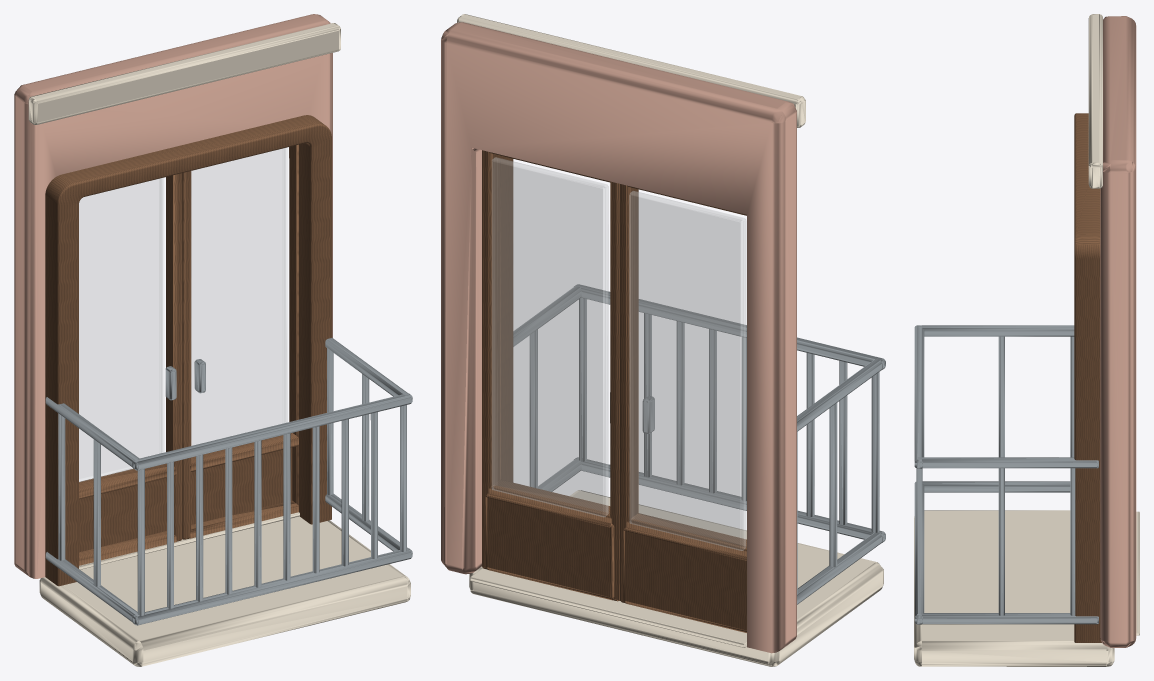
Rendered from Balcony.glb.
The picture shows the model from 3 angles, left to right: view 1: azimuth 30°, elevation 25°; view 2: azimuth 150°, elevation 25°; view 3: azimuth 270°, elevation 25°; orthographic projection. The views are drawn at different scales.
Parts seen in each view (by area): view 1: PBK_substrate.001, PBK_Continuous_Frame_Brick_Balcony.001, PBK_balcony_door_glass.002, PBK_balcony_slab.001, PBK_balcony_door_glass.001, PBK_floor_band.001, PBK_door_stile.009, PBK_door_kick_panel.002, PBK_door_kick_panel.001, PBK_door_stile.010, PBK_front_rail.004, PBK_front_rail.001 (+24 smaller); view 2: PBK_substrate.001, PBK_balcony_door_glass.001, PBK_balcony_door_glass.002, PBK_balcony_slab.001, PBK_door_kick_panel.002, PBK_door_kick_panel.001, PBK_door_stile.011, PBK_door_stile.009, PBK_door_threshold.002, PBK_Continuous_Frame_Brick_Balcony.001, PBK_door_stile.010, PBK_floor_band.001 (+17 smaller); view 3: PBK_substrate.001, PBK_balcony_slab.001, PBK_Continuous_Frame_Brick_Balcony.001, PBK_floor_band.001, PBK_side_rail.007, PBK_side_rail.005, PBK_side_rail.006, PBK_side_rail.004, PBK_front_rail.004, PBK_side_baluster.007, PBK_baluster.019, PBK_side_baluster.006 (+4 smaller).
Part boxes in pixels (x1,y1,x2,y2): PBK_substrate.001: [14, 14, 332, 578]; PBK_Continuous_Frame_Brick_Balcony.001: [45, 115, 331, 586]; PBK_balcony_door_glass.002: [191, 147, 287, 445]; PBK_balcony_slab.001: [39, 516, 410, 666]; PBK_balcony_door_glass.001: [79, 178, 163, 482]; PBK_floor_band.001: [28, 23, 340, 124]; PBK_door_stile.009: [166, 173, 182, 541]; PBK_door_kick_panel.002: [191, 447, 292, 524]; PBK_door_kick_panel.001: [79, 478, 166, 552]; PBK_door_stile.010: [182, 171, 191, 539]; PBK_front_rail.004: [132, 393, 412, 470]; PBK_front_rail.001: [132, 548, 412, 625]; PBK_substrate.001: [441, 22, 796, 653]; PBK_balcony_door_glass.001: [629, 191, 745, 550]; PBK_balcony_door_glass.002: [492, 157, 608, 516]; PBK_balcony_slab.001: [469, 490, 883, 666]; PBK_door_kick_panel.002: [485, 493, 614, 599]; PBK_door_kick_panel.001: [623, 527, 746, 632]; PBK_door_stile.011: [482, 150, 500, 569]; PBK_door_stile.009: [620, 184, 638, 603]; PBK_door_threshold.002: [470, 568, 746, 647]; PBK_Continuous_Frame_Brick_Balcony.001: [501, 156, 513, 482]; PBK_door_stile.010: [610, 182, 620, 601]; PBK_floor_band.001: [457, 14, 805, 127]; PBK_substrate.001: [1100, 16, 1136, 647]; PBK_balcony_slab.001: [914, 510, 1114, 666]; PBK_Continuous_Frame_Brick_Balcony.001: [1074, 113, 1101, 642]; PBK_floor_band.001: [1088, 14, 1102, 188]; PBK_side_rail.007: [916, 457, 1098, 468]; PBK_side_rail.005: [918, 613, 1098, 624]; PBK_side_rail.006: [918, 325, 1074, 336]; PBK_side_rail.004: [922, 481, 1070, 492]; PBK_front_rail.004: [914, 325, 924, 468]; PBK_side_baluster.007: [998, 468, 1004, 615]; PBK_baluster.019: [916, 468, 922, 613]; PBK_side_baluster.006: [1070, 468, 1075, 615].
Size of the model in its own units: 2 by 3.16 by 1.26.
6 materials, 2 textured.
